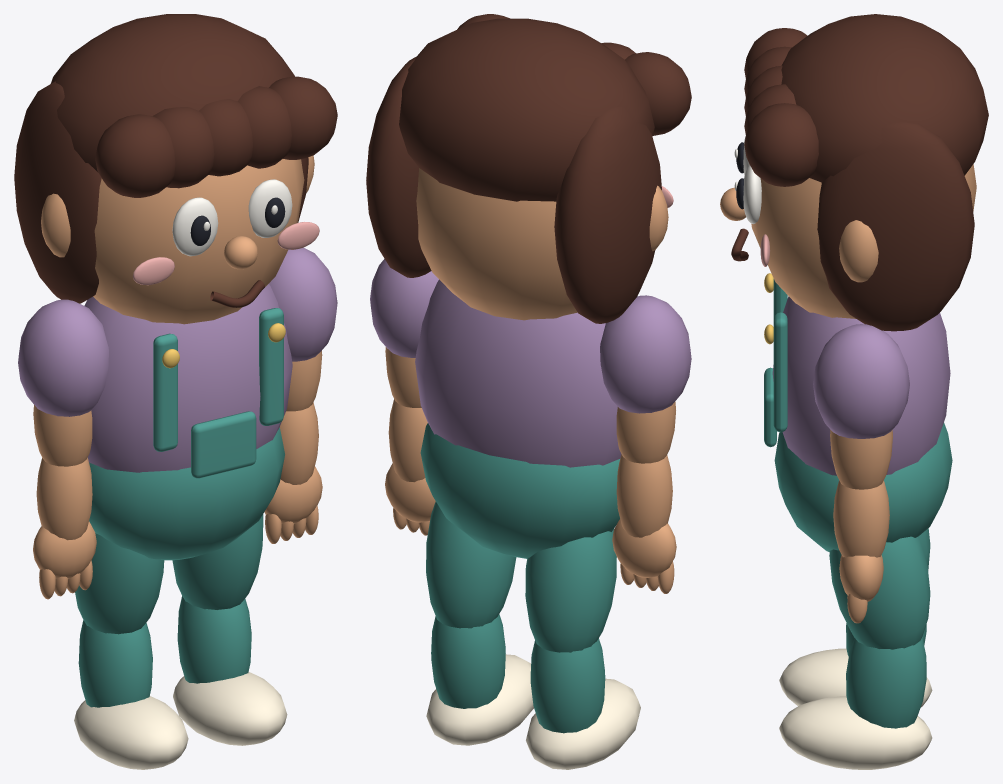
The model's file is mommy-jump.glb.
The picture shows the model from 3 angles, left to right: view 1: azimuth 30°, elevation 25°; view 2: azimuth 150°, elevation 25°; view 3: azimuth 270°, elevation 25°; orthographic projection.
Visible parts, largest first — view 1: soft shirt, hair cap, clay head, overalls, bob hair, shirt sleeve, little shoe, little shoe.001, trouser leg, fringe, shirt sleeve.001, lower leg.001 (+22 smaller); view 2: hair cap, soft shirt, bob hair, overalls, clay head, trouser leg, shirt sleeve, bob hair.001, trouser leg.001, lower leg, lower leg.001, little shoe (+10 smaller); view 3: bob hair.001, hair cap, soft shirt, shirt sleeve.001, overalls, clay head, little shoe.001, trouser leg.001, lower leg.001, fringe.004, forearm.001, little shoe (+11 smaller).
Part boxes in pixels (x1,y1,x2,y2): soft shirt: [84, 284, 292, 472]; hair cap: [50, 14, 294, 171]; clay head: [93, 159, 304, 324]; overalls: [89, 427, 284, 560]; bob hair: [14, 81, 101, 303]; shirt sleeve: [18, 299, 108, 416]; little shoe: [74, 696, 188, 769]; little shoe.001: [173, 672, 287, 745]; trouser leg: [75, 533, 164, 634]; fringe: [95, 114, 175, 197]; shirt sleeve.001: [269, 247, 337, 361]; lower leg.001: [177, 596, 251, 683]; hair cap: [399, 18, 654, 201]; soft shirt: [415, 279, 621, 467]; bob hair: [554, 107, 661, 323]; overalls: [420, 423, 619, 558]; clay head: [416, 168, 577, 320]; trouser leg: [525, 529, 616, 652]; shirt sleeve: [600, 295, 691, 413]; bob hair.001: [366, 56, 431, 277]; trouser leg.001: [426, 501, 516, 628]; lower leg: [530, 638, 605, 733]; lower leg.001: [431, 614, 505, 708]; little shoe: [526, 678, 640, 769]; bob hair.001: [817, 122, 974, 331]; hair cap: [781, 14, 988, 182]; soft shirt: [772, 296, 950, 475]; shirt sleeve.001: [813, 324, 909, 438]; overalls: [774, 423, 952, 551]; clay head: [749, 164, 976, 318]; little shoe.001: [779, 696, 932, 769]; trouser leg.001: [829, 536, 930, 649]; lower leg.001: [846, 637, 926, 728]; fringe.004: [744, 103, 818, 186]; forearm.001: [833, 480, 889, 557]; little shoe: [779, 648, 932, 707].
Bounding box in the file's own units: 0.957 × 2.13 × 0.7315.
